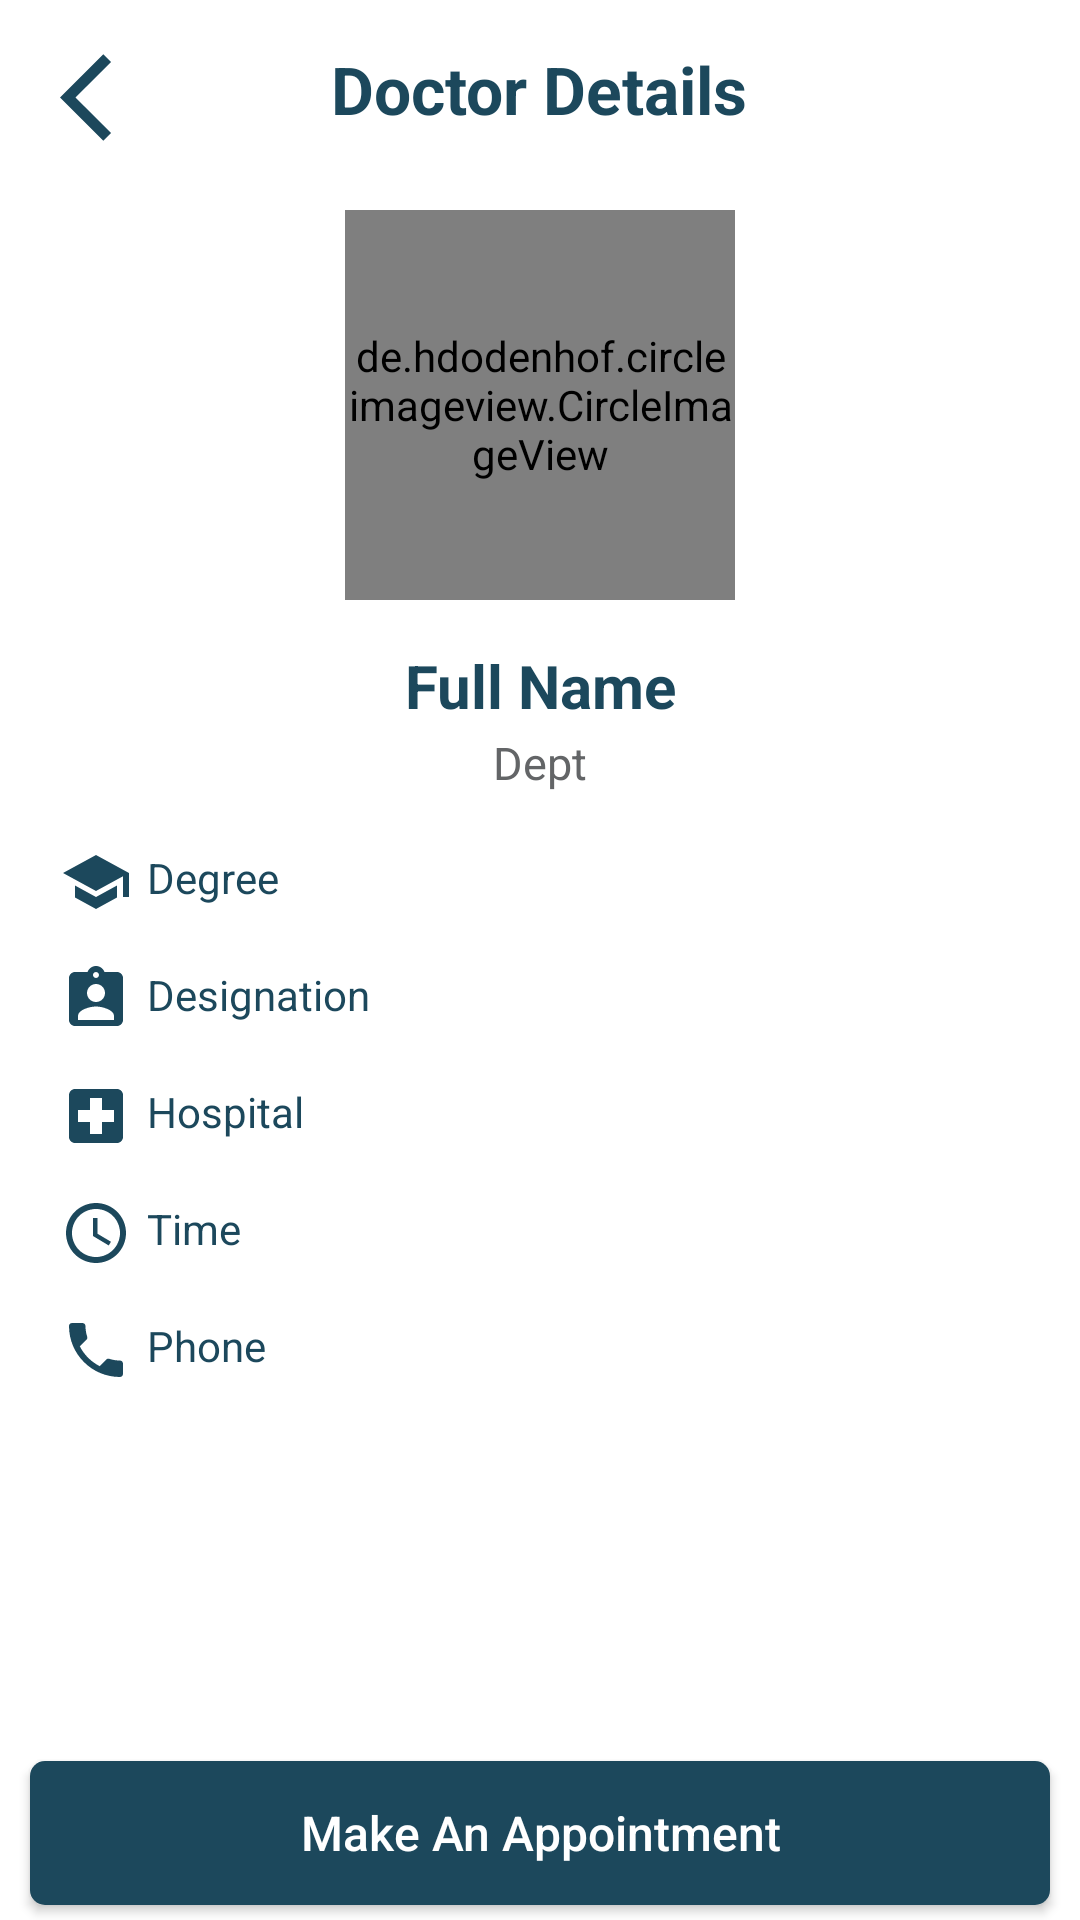

Icons on this 1080 x 1920 Android screen, each with its box as BBox(x1, y1, x2, y2):
back: BBox(60, 54, 111, 141)
